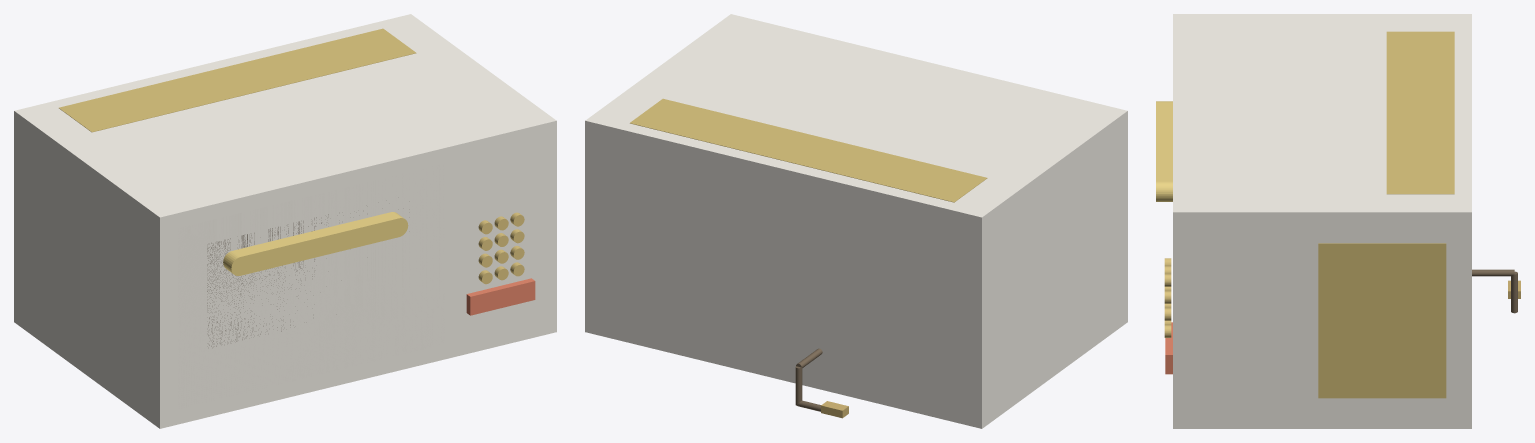
3 views of the same model, side by side, from view 1: azimuth 30°, elevation 25°; view 2: azimuth 150°, elevation 25°; view 3: azimuth 270°, elevation 25° (orthographic). The views are drawn at different scales.
Parts seen in each view (by area): view 1: Microwave_Shell, Door_Frame, Top_Vent, Door_Handle, Door_Open_Button, Door_Window; view 2: Microwave_Shell, Top_Vent; view 3: Microwave_Shell, Side_Vent, Top_Vent, Door_Handle, Handle_Cap_Right.
Boxes of the visible parts, x1,y1,x2,y2 form: Microwave_Shell: (14, 14, 556, 428); Door_Frame: (178, 163, 444, 408); Top_Vent: (59, 28, 416, 132); Door_Handle: (232, 212, 399, 275); Door_Open_Button: (466, 278, 535, 315); Door_Window: (207, 214, 328, 346); Microwave_Shell: (585, 14, 1127, 428); Top_Vent: (630, 98, 987, 202); Microwave_Shell: (1173, 14, 1471, 428); Side_Vent: (1318, 243, 1446, 398); Top_Vent: (1386, 31, 1454, 194); Door_Handle: (1156, 102, 1172, 181); Handle_Cap_Right: (1156, 181, 1172, 201).
Size of the model in its own units: 0.5505 by 0.2825 by 0.4275.
